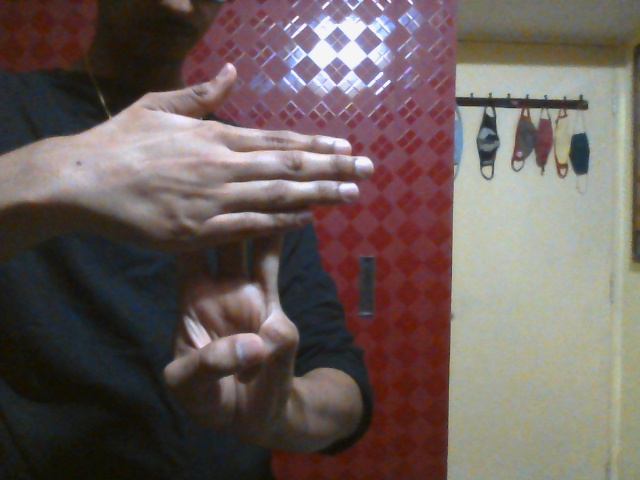M: (73, 57, 378, 435)
